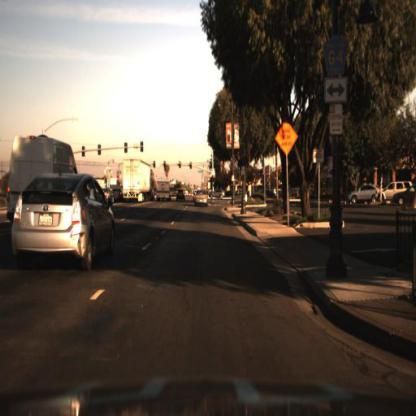car: (2, 169, 124, 287), (2, 130, 81, 183), (349, 183, 389, 209), (154, 177, 173, 205), (382, 179, 401, 207), (193, 188, 210, 208), (109, 183, 123, 204), (174, 189, 187, 207)
trafficLight-Red: (151, 158, 159, 172), (187, 158, 194, 174), (178, 156, 185, 169), (162, 160, 168, 172), (211, 171, 217, 183)
truck: (121, 157, 156, 208)
